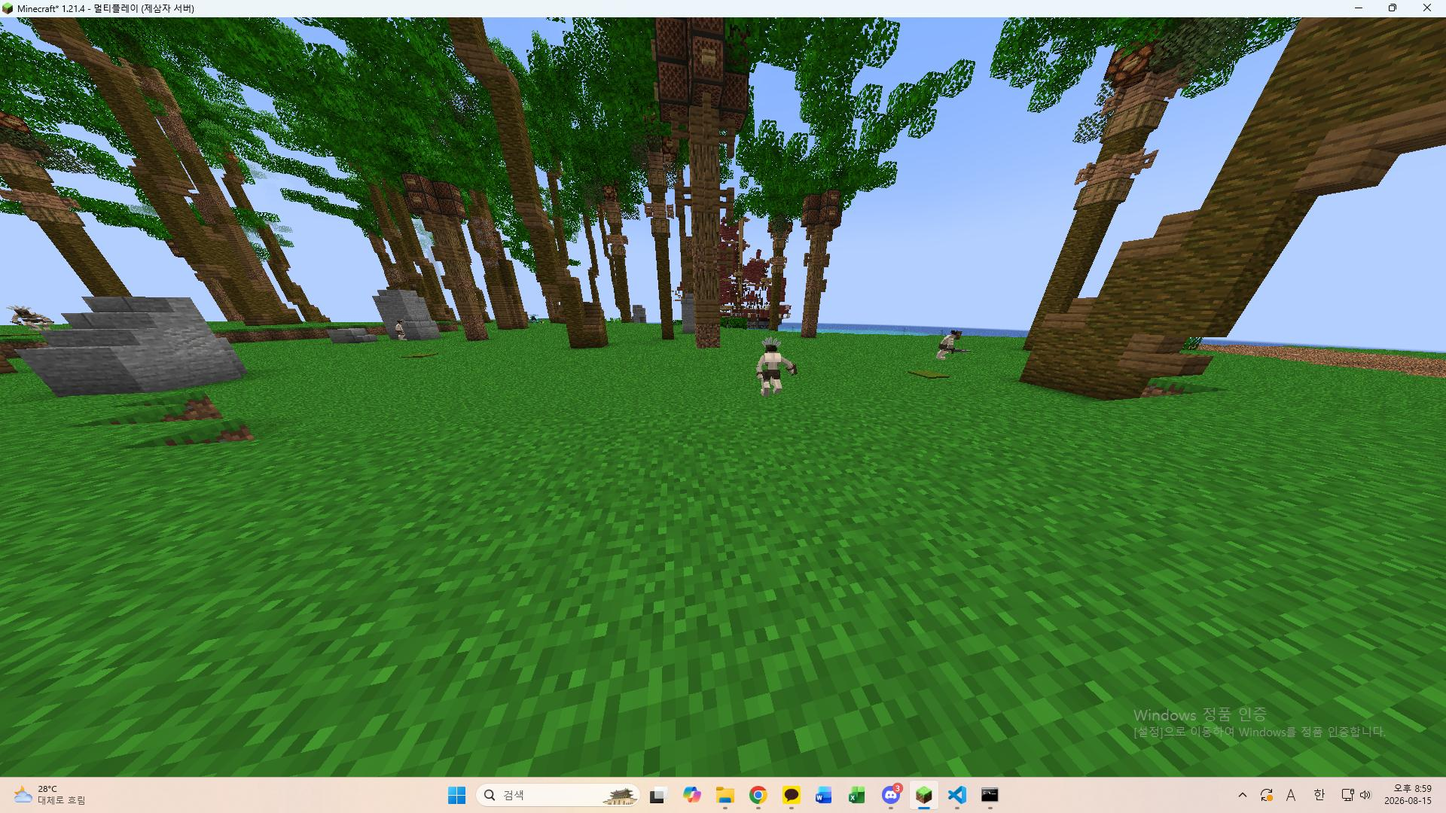bow_indian: (746, 328, 804, 409)
